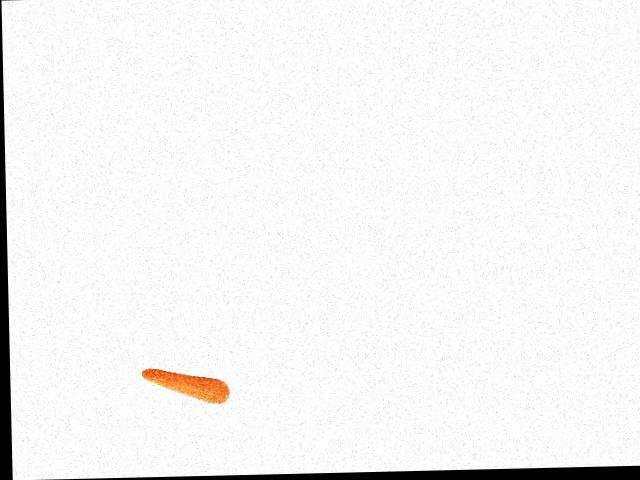carrot: (137, 367, 231, 409)
